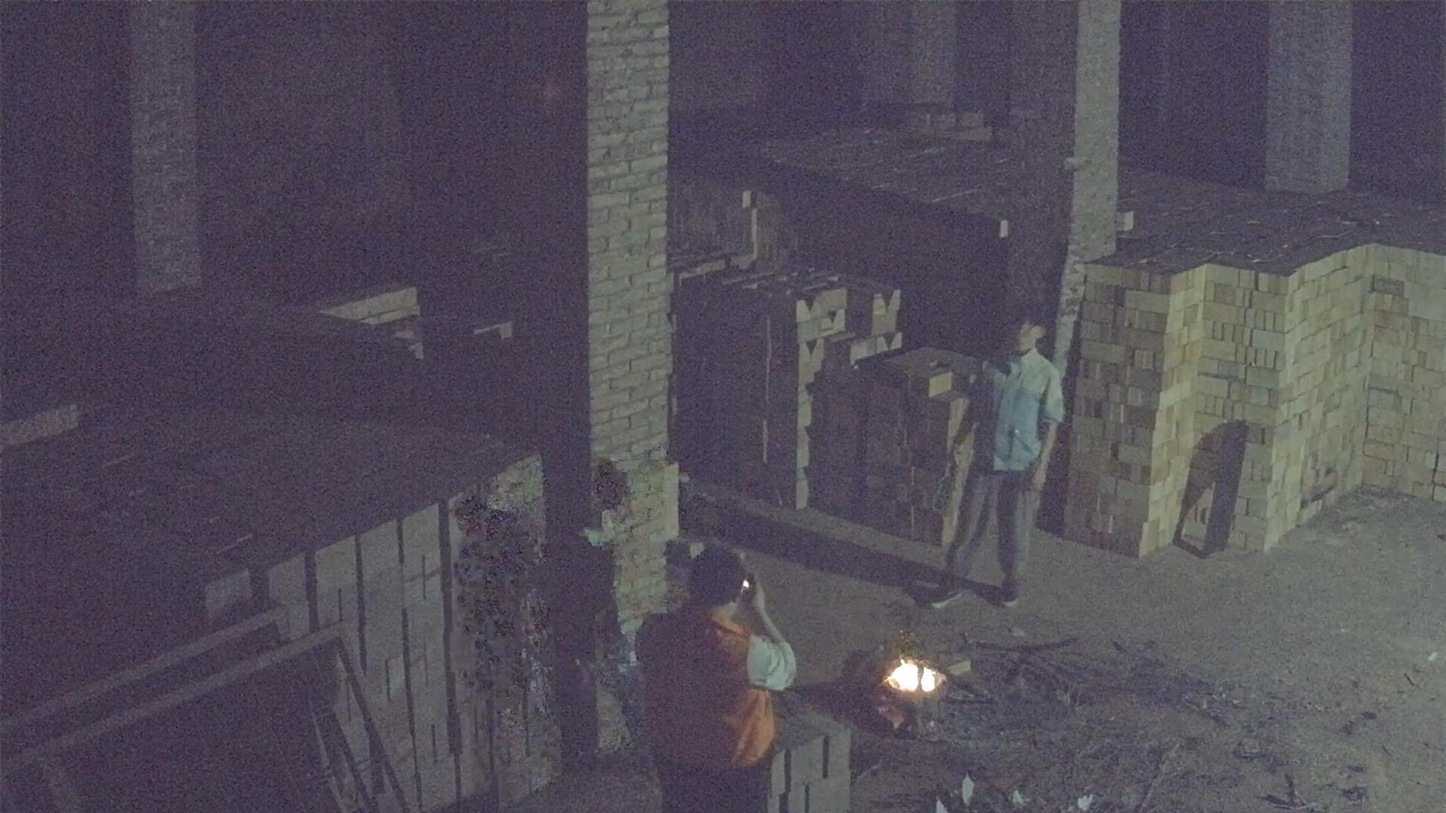fire: (883, 659, 946, 696)
